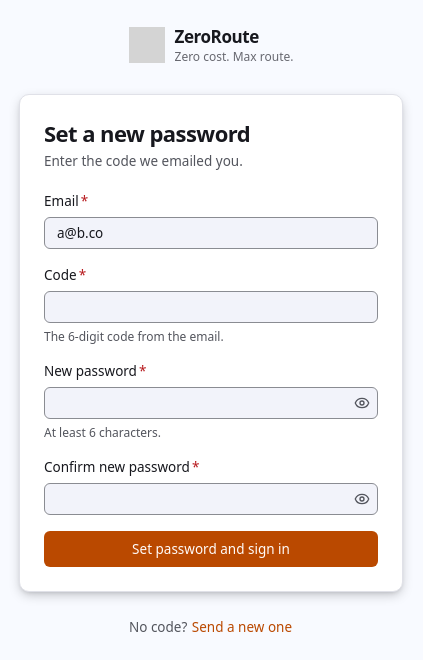
Test: flags a mismatched confirmation on the field and does not submit
The width and height of the screenshot is (423, 660).
Type "12ab3456" into the field labelled "Code*" at [211, 306], box top-left (44, 290), bottom-right (378, 322)
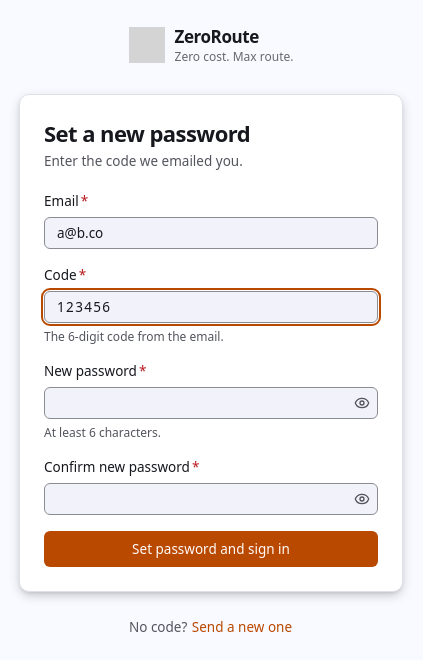
Type "secret1" into the password field labelled "New password*" at [211, 402], box top-left (44, 386), bottom-right (378, 418)
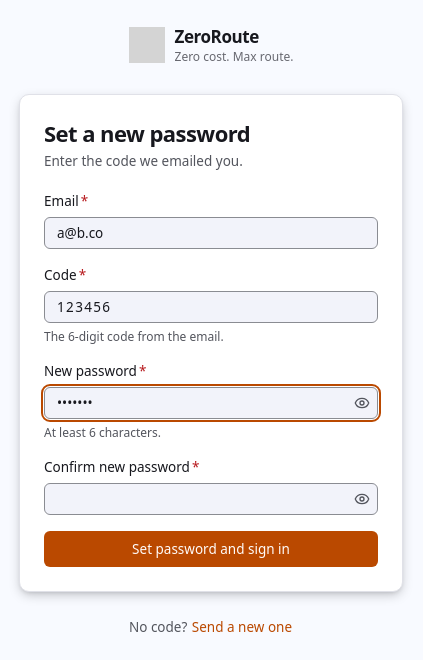
Type "secret2" into the password field labelled "Confirm new password*" at [211, 498], box top-left (44, 482), bottom-right (378, 514)
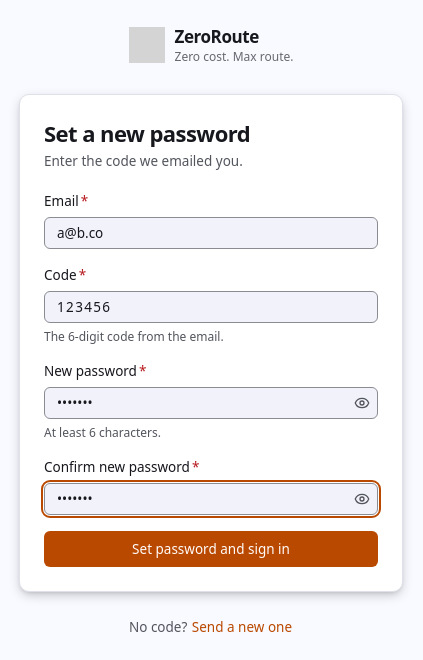
Click the button "Set password and sign in" at [211, 548], box top-left (44, 530), bottom-right (378, 566)
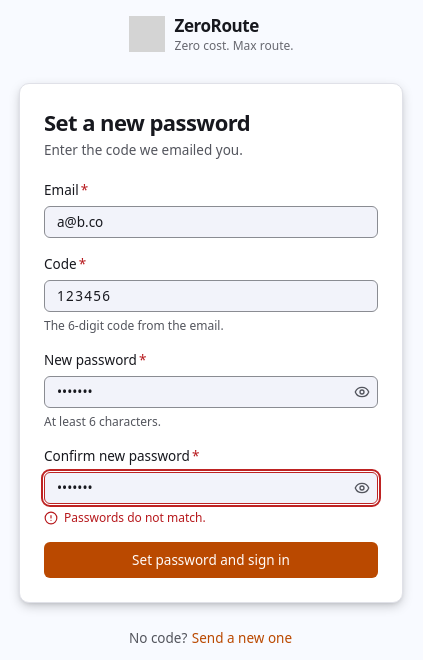
Now the password field labelled "Confirm new password*" is marked as invalid, box top-left (44, 472), bottom-right (378, 504)
